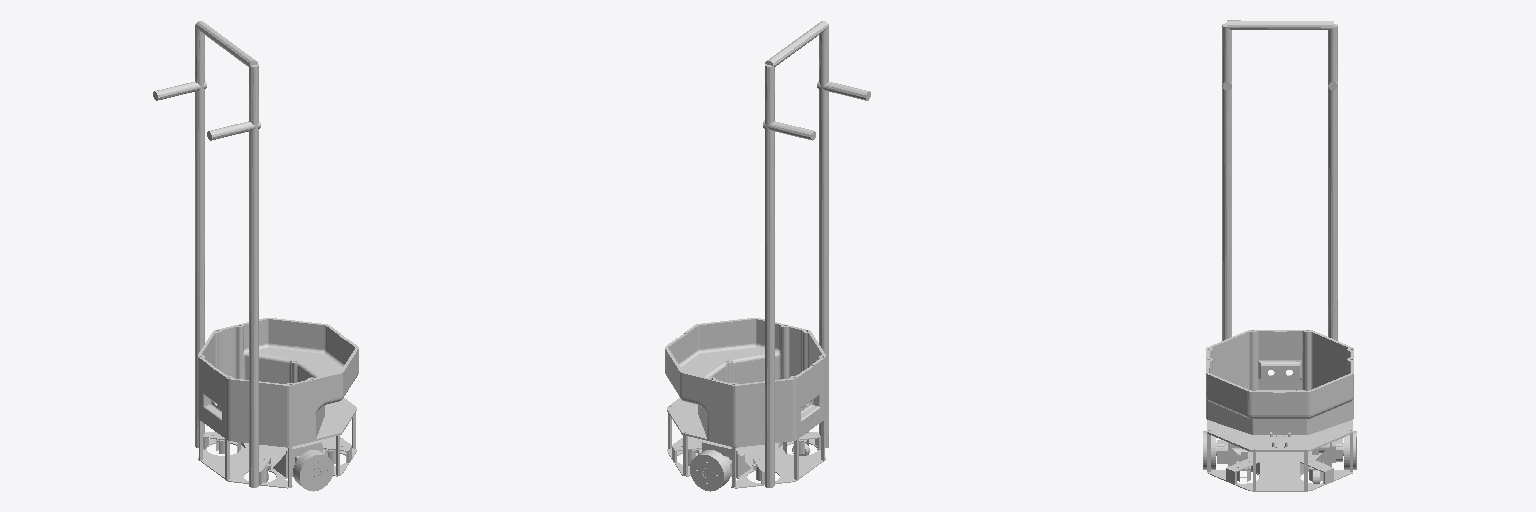
robot.urdf — Test3_1:
<?xml version="1.0" encoding="utf-8"?>
<!-- This URDF was automatically created by SolidWorks to URDF Exporter! Originally created by Stephen Brawner (brawner@gmail.com) 
     Commit Version: 1.6.0-4-g7f85cfe  Build Version: 1.6.7995.38578
     For more information, please see http://wiki.ros.org/sw_urdf_exporter -->
<robot
  name="Test3_1">
  <link
    name="base_footprint_link">
    <inertial>
      <origin
        xyz="-0.0570238943367671 0.000320793320761792 0.394982965995828"
        rpy="0 0 0" />
      <mass
        value="7.97077901603284" />
      <inertia
        ixx="0.56470306269912"
        ixy="-0.000263158439860756"
        ixz="0.00421618336070412"
        iyy="0.506646610712454"
        iyz="2.71098533627327E-05"
        izz="0.138133376970923" />
    </inertial>
    <visual>
      <origin
        xyz="0 0 0"
        rpy="0 0 0" />
      <geometry>
        <mesh
          filename="package://my_robot_description/meshes/base_footprint_link.STL" />
      </geometry>
      <material
        name="">
        <color
          rgba="0.858823529411765 0.858823529411765 0.858823529411765 0.1" />
      </material>
    </visual>
    <collision>
      <origin
        xyz="0 0 0"
        rpy="0 0 0" />
      <geometry>
        <mesh
          filename="package://my_robot_description/meshes/base_footprint_link.STL" />
      </geometry>
    </collision>
  </link>
  <link
    name="MWR_Link">
    <inertial>
      <origin
        xyz="-3.61866692166757E-07 0.00169749189013729 -2.05963571309198E-07"
        rpy="0 0 0" />
      <mass
        value="0.466851252756426" />
      <inertia
        ixx="0.00044060625166746"
        ixy="-3.2458431634984E-09"
        ixz="9.82786682125029E-09"
        iyy="0.000814141386237763"
        iyz="-1.84743702542368E-09"
        izz="0.000440594578385447" />
    </inertial>
    <visual>
      <origin
        xyz="0 0 0"
        rpy="0 0 0" />
      <geometry>
        <mesh
          filename="package://my_robot_description/meshes/MWR_Link.STL" />
      </geometry>
      <material
        name="">
        <color
          rgba="0.858823529411765 0.858823529411765 0.858823529411765 0.1" />
      </material>
    </visual>
    <collision>
      <origin
        xyz="0 0 0"
        rpy="0 0 0" />
      <geometry>
        <mesh
          filename="package://my_robot_description/meshes/MWR_Link.STL" />
      </geometry>
    </collision>
  </link>
  <joint
    name="MWR_Link_J"
    type="continuous">
    <origin
      xyz="2.8025E-05 -0.21678 0.06"
      rpy="0 0 -0.0034085" />
    <parent
      link="base_footprint_link" />
    <child
      link="MWR_Link" />
    <axis
      xyz="0 -1 0" />
  </joint>
  <link
    name="MWL_Link">
    <inertial>
      <origin
        xyz="-1.24067423001861E-12 -3.4632211287855E-05 -7.88480392088786E-13"
        rpy="0 0 0" />
      <mass
        value="0.445537025884621" />
      <inertia
        ixx="0.00043646303054229"
        ixy="1.26999509073221E-18"
        ixz="-1.24198924934284E-08"
        iyy="0.00080980686348029"
        iyz="7.74774955004595E-19"
        izz="0.000436448278520281" />
    </inertial>
    <visual>
      <origin
        xyz="0 0 0"
        rpy="0 0 0" />
      <geometry>
        <mesh
          filename="package://my_robot_description/meshes/MWL_Link.STL" />
      </geometry>
      <material
        name="">
        <color
          rgba="0.858823529411765 0.858823529411765 0.858823529411765 0.1" />
      </material>
    </visual>
    <collision>
      <origin
        xyz="0 0 0"
        rpy="0 0 0" />
      <geometry>
        <mesh
          filename="package://my_robot_description/meshes/MWL_Link.STL" />
      </geometry>
    </collision>
  </link>
  <joint
    name="MWL_Link_J"
    type="continuous">
    <origin
      xyz="0.00041175 0.21636 0.06"
      rpy="0 0 -0.0034085" />
    <parent
      link="base_footprint_link" />
    <child
      link="MWL_Link" />
    <axis
      xyz="0 -1 0" />
  </joint>
  <link
    name="CFR_Link">
    <inertial>
      <origin
        xyz="1.11022302462516E-16 -1.11022302462516E-16 0"
        rpy="0 0 0" />
      <mass
        value="0.0225801971976767" />
      <inertia
        ixx="4.27698207368044E-06"
        ixy="4.30587632545263E-38"
        ixz="-1.01562978102688E-38"
        iyy="7.87603463265499E-06"
        iyz="-1.18046993705124E-20"
        izz="4.27698207368044E-06" />
    </inertial>
    <visual>
      <origin
        xyz="0 0 0"
        rpy="0 0 0" />
      <geometry>
        <mesh
          filename="package://my_robot_description/meshes/CFR_Link.STL" />
      </geometry>
      <material
        name="">
        <color
          rgba="0.858823529411765 0.858823529411765 0.858823529411765 0.1" />
      </material>
    </visual>
    <collision>
      <origin
        xyz="0 0 0"
        rpy="0 0 0" />
      <geometry>
        <mesh
          filename="package://my_robot_description/meshes/CFR_Link.STL" />
      </geometry>
    </collision>
  </link>
  <joint
    name="CFR_Link_J"
    type="fixed">
    <origin
      xyz="0.12462 -0.11293 0.0245"
      rpy="0 0 -0.0034085" />
    <parent
      link="base_footprint_link" />
    <child
      link="CFR_Link" />
    <axis
      xyz="0 0 0" />
  </joint>
  <link
    name="CBR_Link">
    <inertial>
      <origin
        xyz="1.11022302462516E-16 5.55111512312578E-17 -4.44089209850063E-16"
        rpy="0 0 0" />
      <mass
        value="0.0225801971976767" />
      <inertia
        ixx="4.27698207368044E-06"
        ixy="4.30587632545263E-38"
        ixz="-1.01562978102684E-38"
        iyy="7.87603463265499E-06"
        iyz="-1.19105784889192E-20"
        izz="4.27698207368044E-06" />
    </inertial>
    <visual>
      <origin
        xyz="0 0 0"
        rpy="0 0 0" />
      <geometry>
        <mesh
          filename="package://my_robot_description/meshes/CBR_Link.STL" />
      </geometry>
      <material
        name="">
        <color
          rgba="0.858823529411765 0.858823529411765 0.858823529411765 0.1" />
      </material>
    </visual>
    <collision>
      <origin
        xyz="0 0 0"
        rpy="0 0 0" />
      <geometry>
        <mesh
          filename="package://my_robot_description/meshes/CBR_Link.STL" />
      </geometry>
    </collision>
  </link>
  <joint
    name="CBR_Link_J"
    type="fixed">
    <origin
      xyz="-0.12538 -0.11207 0.0245"
      rpy="0 0 -0.0034085" />
    <parent
      link="base_footprint_link" />
    <child
      link="CBR_Link" />
    <axis
      xyz="0 0 0" />
  </joint>
  <link
    name="CFL_Link">
    <inertial>
      <origin
        xyz="-1.11022302462516E-16 -1.11022302462516E-16 2.22044604925031E-16"
        rpy="0 0 0" />
      <mass
        value="0.0225801971976767" />
      <inertia
        ixx="4.27698207368044E-06"
        ixy="4.30587632545263E-38"
        ixz="-1.01562978102684E-38"
        iyy="7.87603463265499E-06"
        iyz="-1.19105784889192E-20"
        izz="4.27698207368045E-06" />
    </inertial>
    <visual>
      <origin
        xyz="0 0 0"
        rpy="0 0 0" />
      <geometry>
        <mesh
          filename="package://my_robot_description/meshes/CFL_Link.STL" />
      </geometry>
      <material
        name="">
        <color
          rgba="0.858823529411765 0.858823529411765 0.858823529411765 0.1" />
      </material>
    </visual>
    <collision>
      <origin
        xyz="0 0 0"
        rpy="0 0 0" />
      <geometry>
        <mesh
          filename="package://my_robot_description/meshes/CFL_Link.STL" />
      </geometry>
    </collision>
  </link>
  <joint
    name="CFL_Link_J"
    type="fixed">
    <origin
      xyz="0.12538 0.11207 0.0245"
      rpy="0 0 -0.0034085" />
    <parent
      link="base_footprint_link" />
    <child
      link="CFL_Link" />
    <axis
      xyz="0 0 0" />
  </joint>
  <link
    name="CBL_Link">
    <inertial>
      <origin
        xyz="1.11022302462516E-16 -1.11022302462516E-16 0"
        rpy="0 0 0" />
      <mass
        value="0.0225801971976767" />
      <inertia
        ixx="4.27698207368044E-06"
        ixy="4.30587632545263E-38"
        ixz="-1.01562978102684E-38"
        iyy="7.87603463265499E-06"
        iyz="-1.19105784889192E-20"
        izz="4.27698207368045E-06" />
    </inertial>
    <visual>
      <origin
        xyz="0 0 0"
        rpy="0 0 0" />
      <geometry>
        <mesh
          filename="package://my_robot_description/meshes/CBL_Link.STL" />
      </geometry>
      <material
        name="">
        <color
          rgba="0.858823529411765 0.858823529411765 0.858823529411765 0.1" />
      </material>
    </visual>
    <collision>
      <origin
        xyz="0 0 0"
        rpy="0 0 0" />
      <geometry>
        <mesh
          filename="package://my_robot_description/meshes/CBL_Link.STL" />
      </geometry>
    </collision>
  </link>
  <joint
    name="CBL_Link_J"
    type="fixed">
    <origin
      xyz="-0.12462 0.11293 0.0245"
      rpy="0 0 -0.0034085" />
    <parent
      link="base_footprint_link" />
    <child
      link="CBL_Link" />
    <axis
      xyz="0 0 0" />
  </joint>
  <link
    name="Lidar_Link">
    <inertial>
      <origin
        xyz="0.0120605326862411 -0.000533080658911778 -0.0190152626715723"
        rpy="0 0 0" />
      <mass
        value="0.0730815498984693" />
      <inertia
        ixx="1.95791674364713E-05"
        ixy="-1.04522155787958E-07"
        ixz="-4.28234113620958E-07"
        iyy="2.41258092975075E-05"
        iyz="9.34335891265909E-09"
        izz="4.14174354300289E-05" />
    </inertial>
    <visual>
      <origin
        xyz="0 0 0"
        rpy="0 0 0" />
      <geometry>
        <mesh
          filename="package://my_robot_description/meshes/Lidar_Link.STL" />
      </geometry>
      <material
        name="">
        <color
          rgba="0.752941176470588 0.752941176470588 0.752941176470588 1" />
      </material>
    </visual>
    <collision>
      <origin
        xyz="0 0 0"
        rpy="0 0 0" />
      <geometry>
        <mesh
          filename="package://my_robot_description/meshes/Lidar_Link.STL" />
      </geometry>
    </collision>
  </link>
  <joint
    name="Lidar_Link_J"
    type="fixed">
    <origin
      xyz="0.15601 0.00023517 0.22275"
      rpy="0 0 -0.0034085" />
    <parent
      link="base_footprint_link" />
    <child
      link="Lidar_Link" />
    <axis
      xyz="0 0 0" />
  </joint>
  <link
    name="MPU_Link">
    <inertial>
      <origin
        xyz="0.000548666975906498 6.86596336055834E-05 -0.00212070510127393"
        rpy="0 0 0" />
      <mass
        value="0.000999898118986847" />
      <inertia
        ixx="2.50456299192788E-08"
        ixy="-2.83087758630035E-14"
        ixz="-2.69530310584332E-14"
        iyy="1.2450495325116E-08"
        iyz="-1.16343900762482E-14"
        izz="3.063763531159E-08" />
    </inertial>
    <visual>
      <origin
        xyz="0 0 0"
        rpy="0 0 0" />
      <geometry>
        <mesh
          filename="package://my_robot_description/meshes/MPU_Link.STL" />
      </geometry>
      <material
        name="">
        <color
          rgba="0.752941176470588 0.752941176470588 0.752941176470588 1" />
      </material>
    </visual>
    <collision>
      <origin
        xyz="0 0 0"
        rpy="0 0 0" />
      <geometry>
        <mesh
          filename="package://my_robot_description/meshes/MPU_Link.STL" />
      </geometry>
    </collision>
  </link>
  <joint
    name="MPU_Link_J"
    type="fixed">
    <origin
      xyz="0.069783 -0.0010048 0.1793"
      rpy="0 0 -0.0034085" />
    <parent
      link="base_footprint_link" />
    <child
      link="MPU_Link" />
    <axis
      xyz="0 0 0" />
  </joint>
</robot>

--- Render facts (derived) ---
The picture shows the robot from 3 angles, left to right: view 1: azimuth 30°, elevation 25°; view 2: azimuth 150°, elevation 25°; view 3: azimuth 270°, elevation 25°; orthographic projection.
Model Test3_1 with 9 links and 8 joints (2 continuous, 6 fixed), rooted at base_footprint_link, posed all joints at 0.
Links seen in each view (by area): view 1: base_footprint_link, MWR_Link; view 2: base_footprint_link, MWL_Link; view 3: base_footprint_link.
Link boxes in pixels (x1,y1,x2,y2): base_footprint_link: (153, 21, 358, 488); MWR_Link: (293, 450, 333, 491); base_footprint_link: (665, 21, 870, 488); MWL_Link: (690, 450, 730, 491); base_footprint_link: (1206, 20, 1353, 491).
Bounding box of the posed robot: 0.5612 × 0.4735 × 1.44 m (x, y, z).
Meshes: 9 distinct files referenced, 6 mesh visuals loaded (6 binary STL); not drawn: 3 (reference not matched to a file when rendering).
